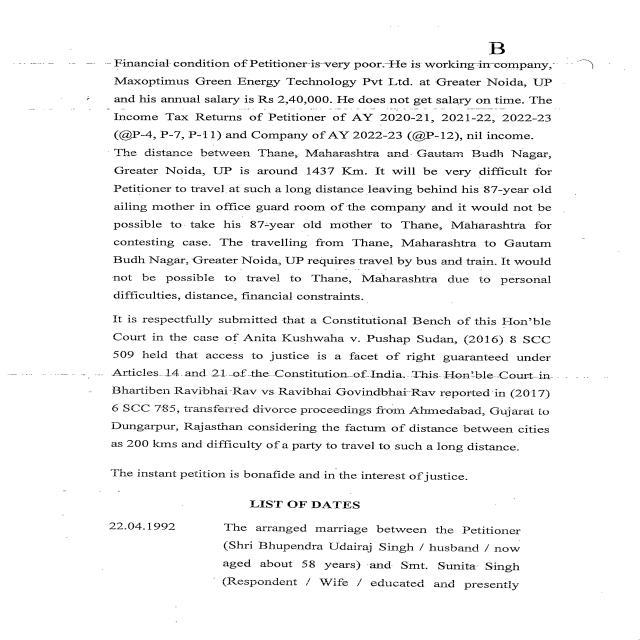page-number: (401, 0, 640, 60)
